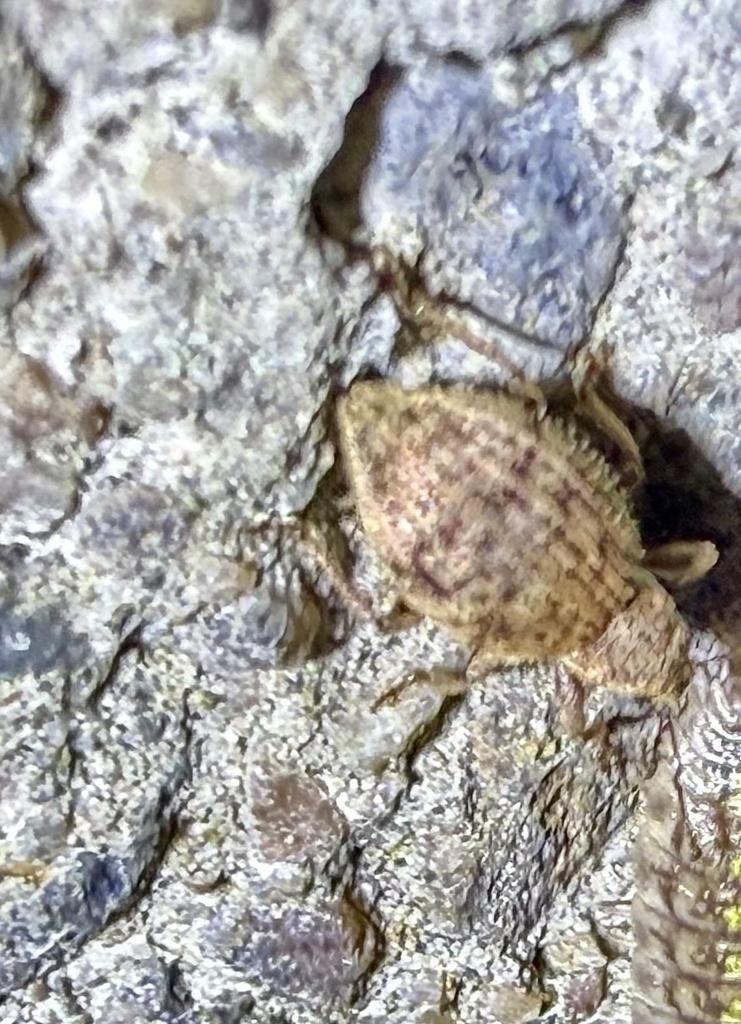weevils: (206, 234, 741, 807)
